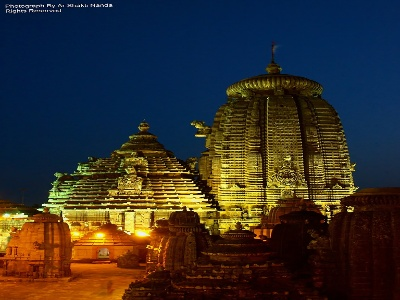amalaka: (220, 63, 332, 104), (118, 124, 168, 148), (27, 207, 67, 229)
gopuram: (200, 93, 363, 212)
